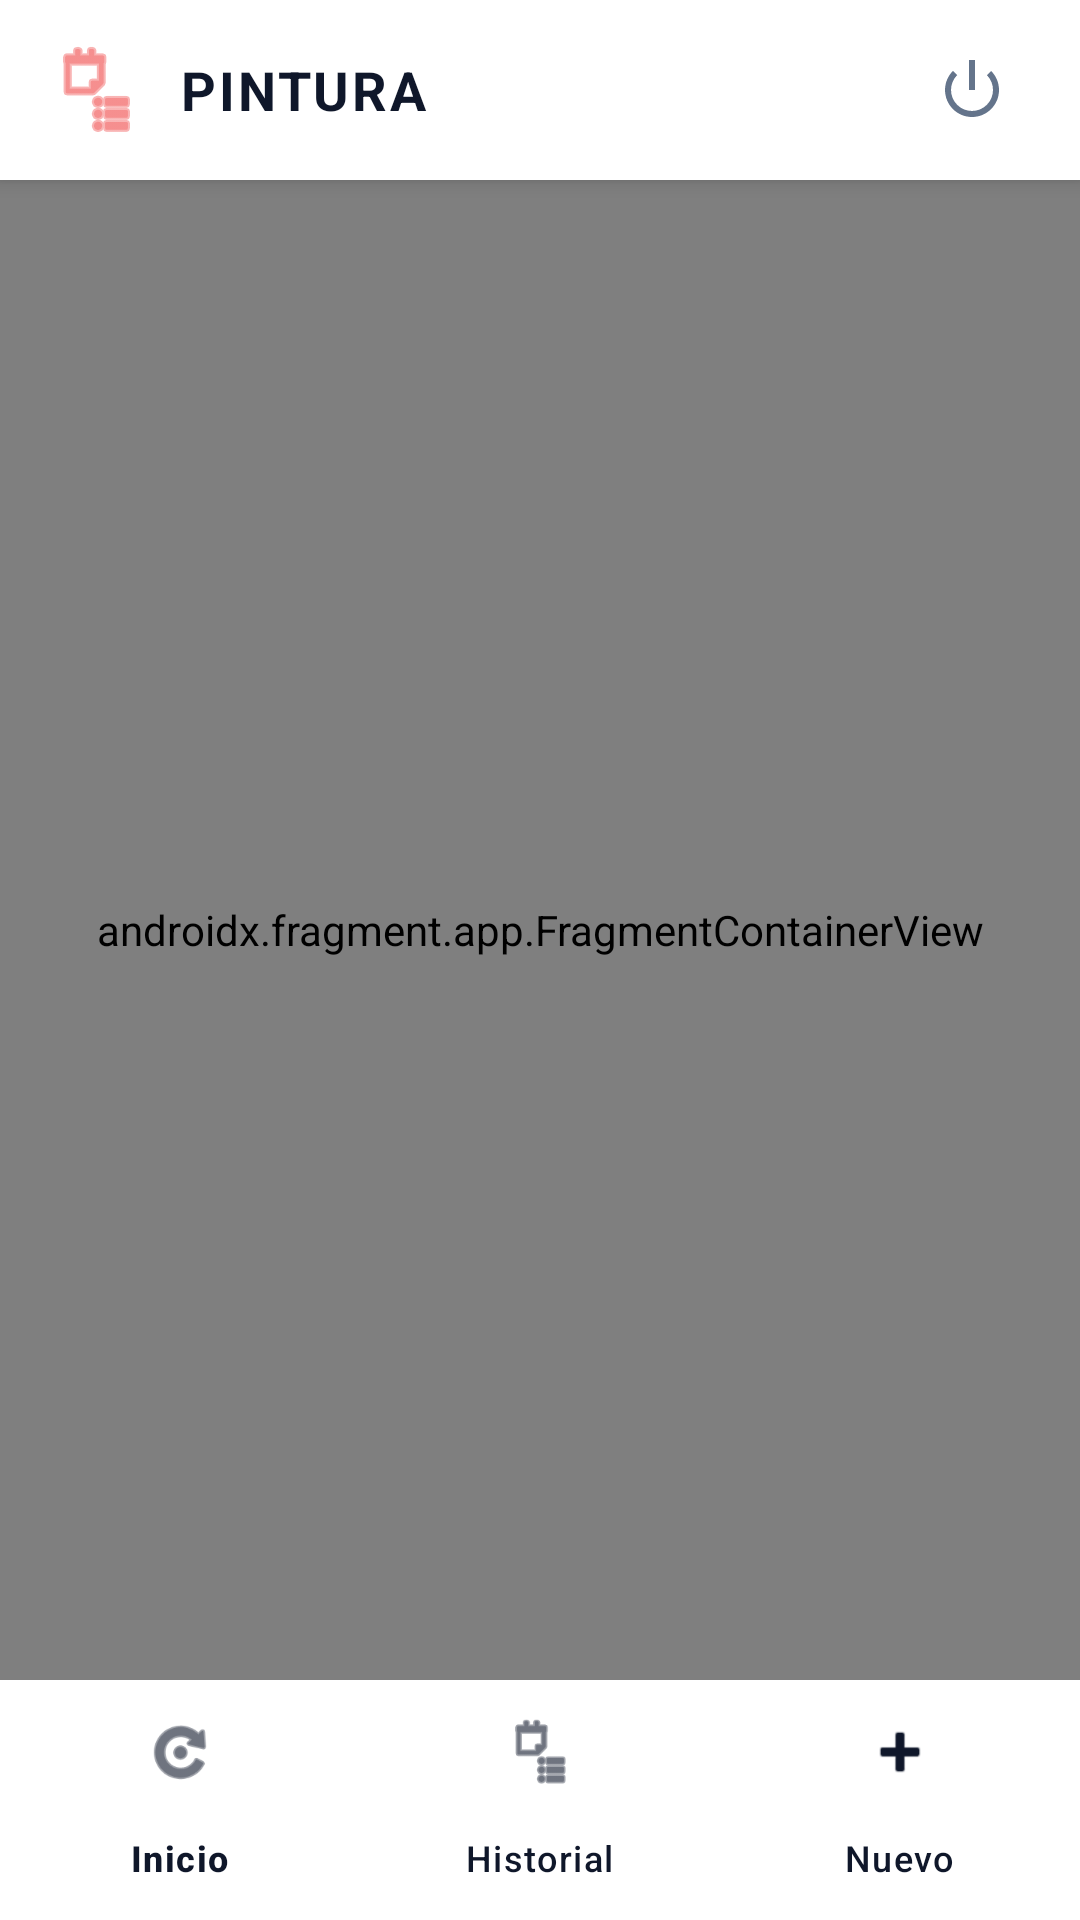

Icons on this 1080x1920 Android screen, each with its box as [x1=x1, y1=y1, x2=x2, y2=y2]:
agenda: [x1=63, y1=47, x2=130, y2=132]
lock power off: [x1=945, y1=60, x2=999, y2=117]
